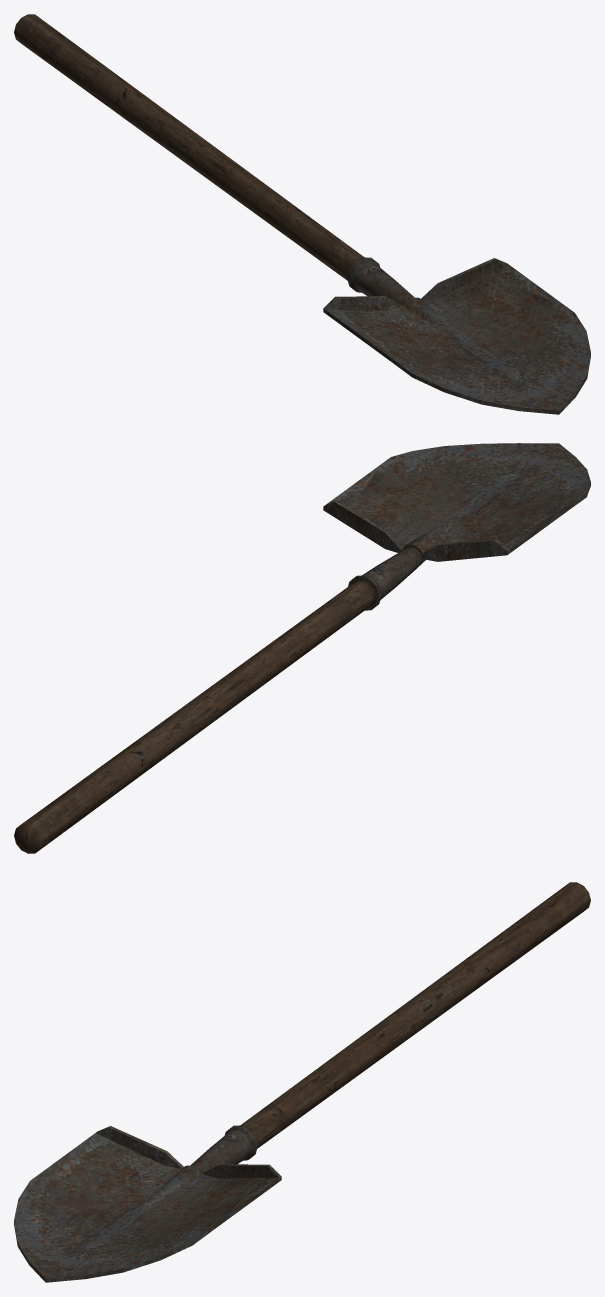
Rendered from shovel_mx_1.dae.
3 renders of one model, top to bottom at view 1: azimuth 30°, elevation 25°; view 2: azimuth 150°, elevation 25°; view 3: azimuth 330°, elevation 25°, orthographic.
Parts seen in each view (by area): view 1: shovel_mx_1; view 2: shovel_mx_1; view 3: shovel_mx_1.
Boxes of the visible parts, <box> form: shovel_mx_1: <box>14,14,590,414</box>; shovel_mx_1: <box>14,443,590,853</box>; shovel_mx_1: <box>14,882,590,1282</box>.
Bounding box in the file's own units: 0.39 × 1.96 × 0.1044.
1 material, 1 textured.
